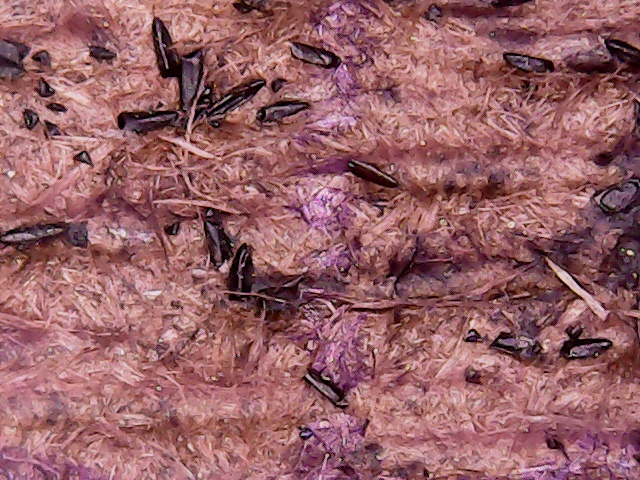full: (300, 360, 355, 416), (497, 43, 561, 85), (144, 13, 183, 79), (202, 69, 266, 109), (1, 218, 75, 252), (174, 45, 212, 110), (116, 101, 182, 138), (283, 37, 346, 73), (344, 154, 403, 192), (254, 94, 319, 128), (491, 322, 546, 361), (557, 331, 618, 365), (600, 27, 640, 71), (200, 209, 230, 267), (231, 240, 256, 304)
